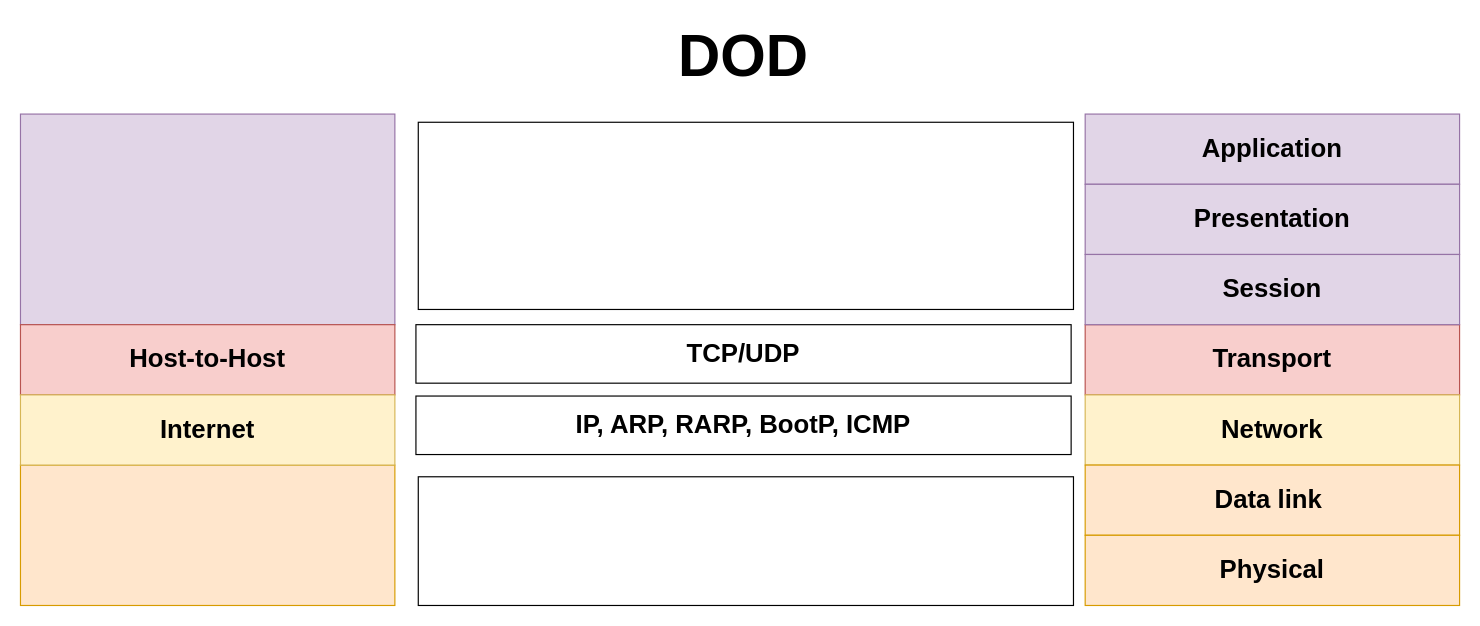
The diagram is 1480 pixels wide and 626 high, and some of its shapes have lost their labels. Each missing label, with the centre of its shape:
"Application/Processes" goes at pixel 207 219.
"Ethernet" goes at pixel 745 540.
"HTTP, HTTPS, FTP, SMTP, Telnet, DNS, DHCP etc." goes at pixel 745 215.
"Physical/Network Access" goes at pixel 207 534.
